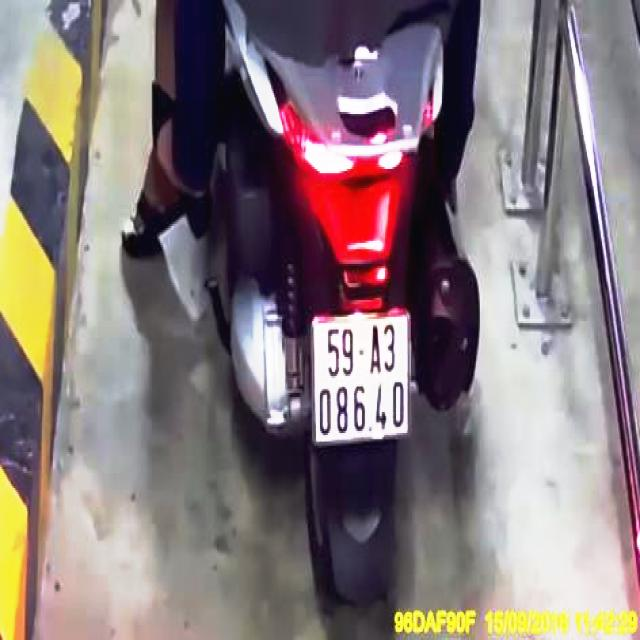license_plate: (314, 314, 409, 446)
